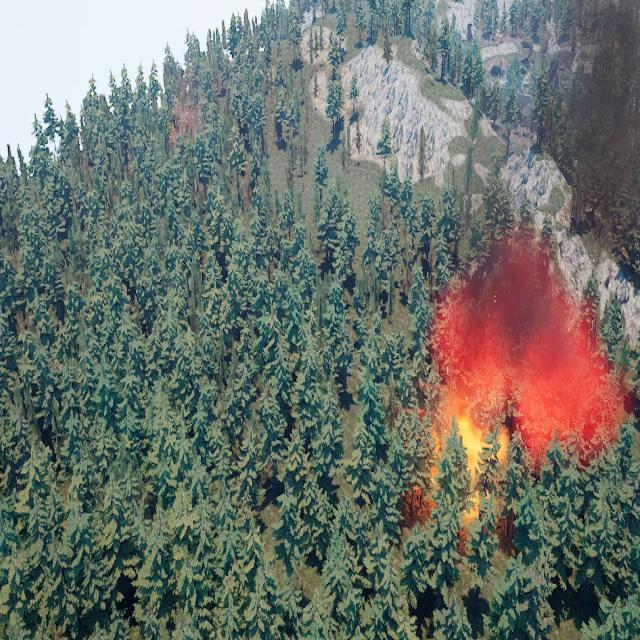fire: (420, 410, 510, 518)
smoke: (422, 229, 625, 472), (542, 0, 640, 226), (168, 90, 204, 151)
